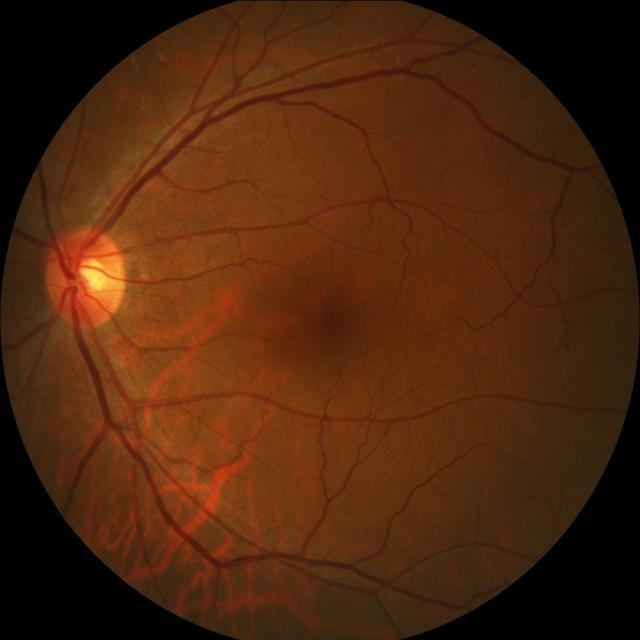OC: (79, 258, 107, 292)
OD: (46, 226, 130, 329)
